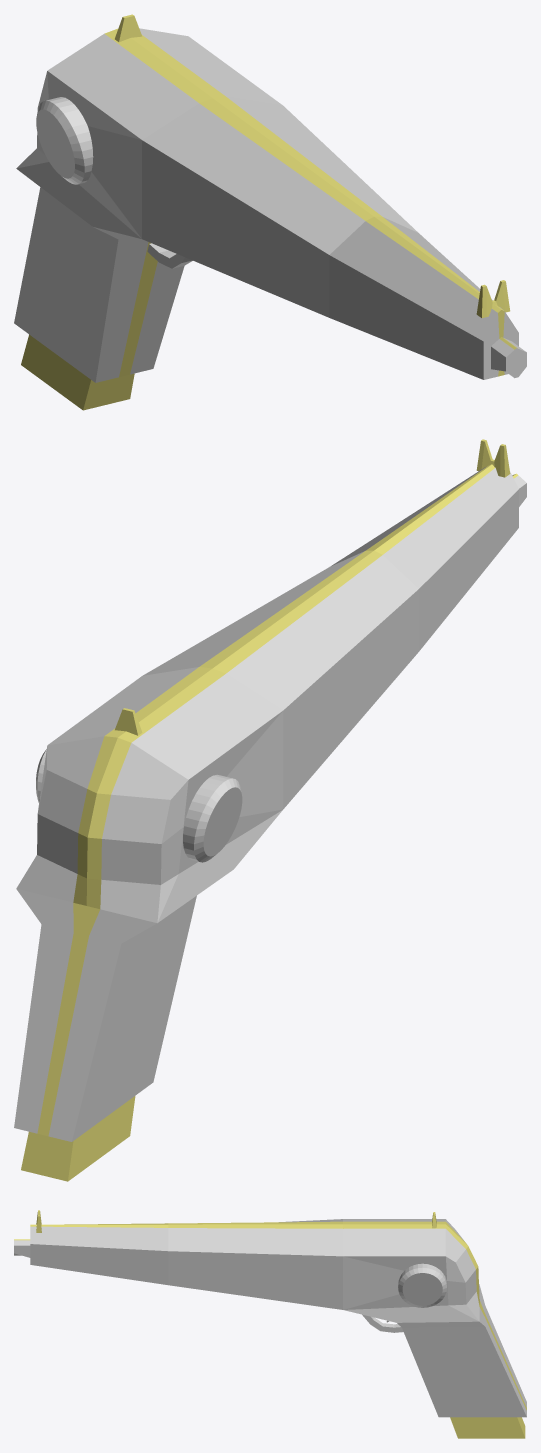
Rendered from Pistol1.fbx.
The picture shows the model from 3 angles, top to bottom: view 1: azimuth 30°, elevation 25°; view 2: azimuth 150°, elevation 25°; view 3: azimuth 270°, elevation 25°; orthographic projection. The views are drawn at different scales.
Visible parts, largest first — view 1: Cube.002; view 2: Cube.002; view 3: Cube.002.
Part boxes in pixels (bbox=[...]): Cube.002: bbox=[14, 14, 526, 410]; Cube.002: bbox=[14, 439, 526, 1181]; Cube.002: bbox=[14, 1210, 526, 1438].
Bounding box in the file's own units: 253 × 547 × 1161.
